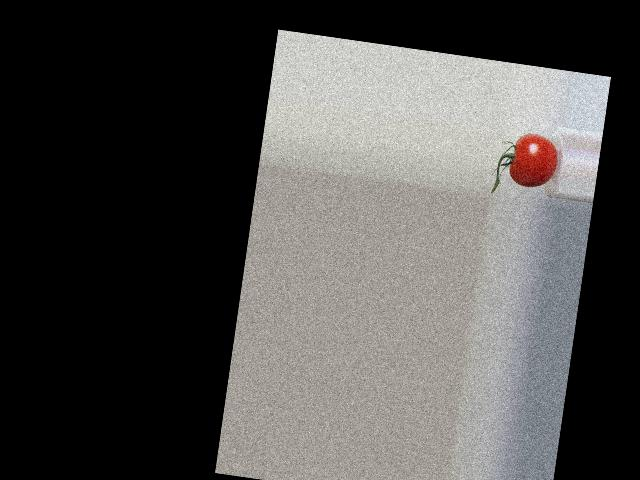tomato: (507, 131, 560, 191)
